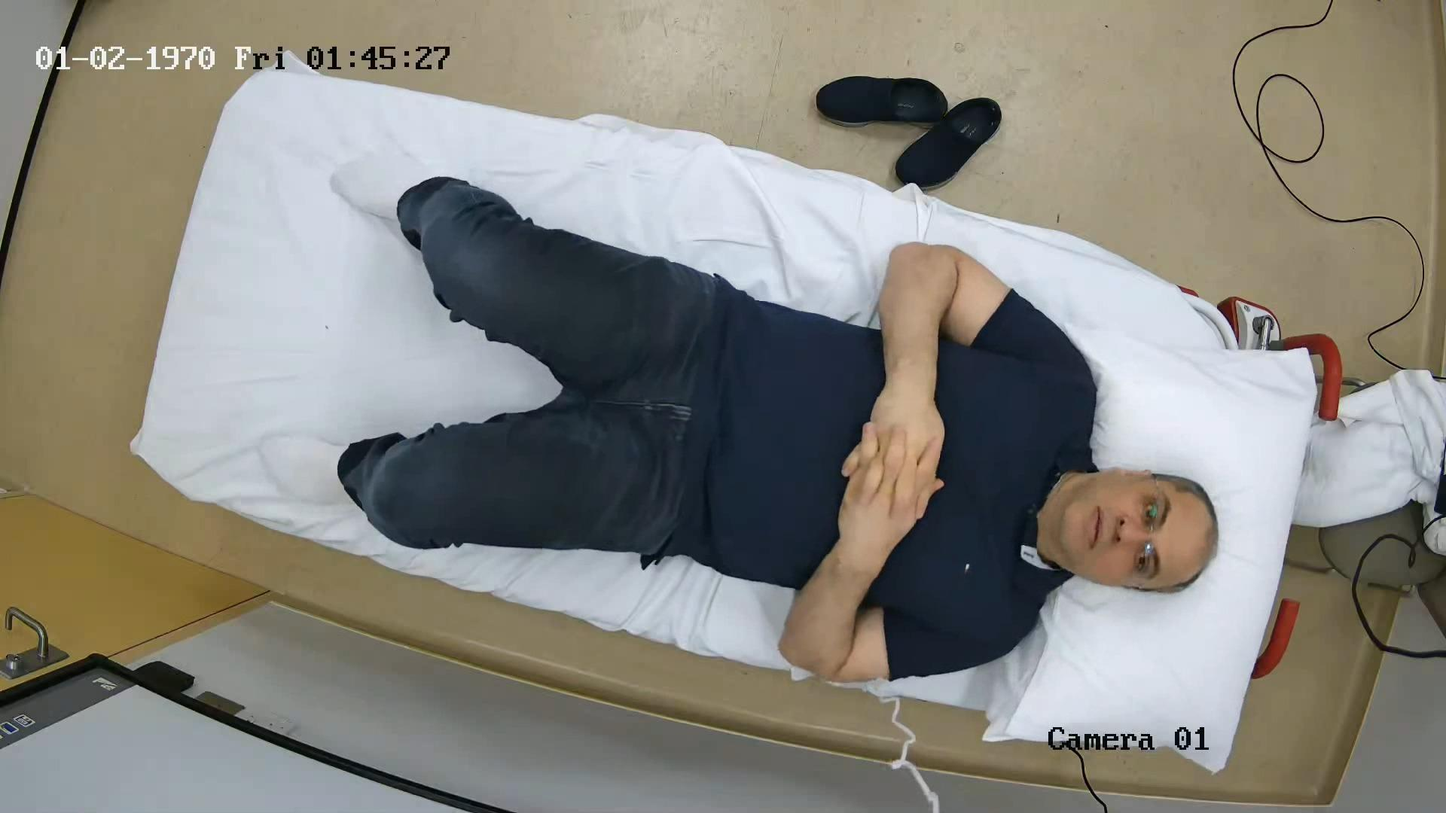bed: (135, 62, 1341, 770)
patient: (338, 177, 1217, 683)
